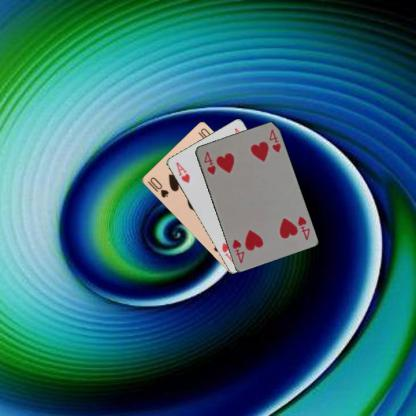10s: (147, 174, 170, 200)
4h: (295, 213, 311, 242), (201, 148, 217, 176)
Ah: (173, 160, 191, 184)
